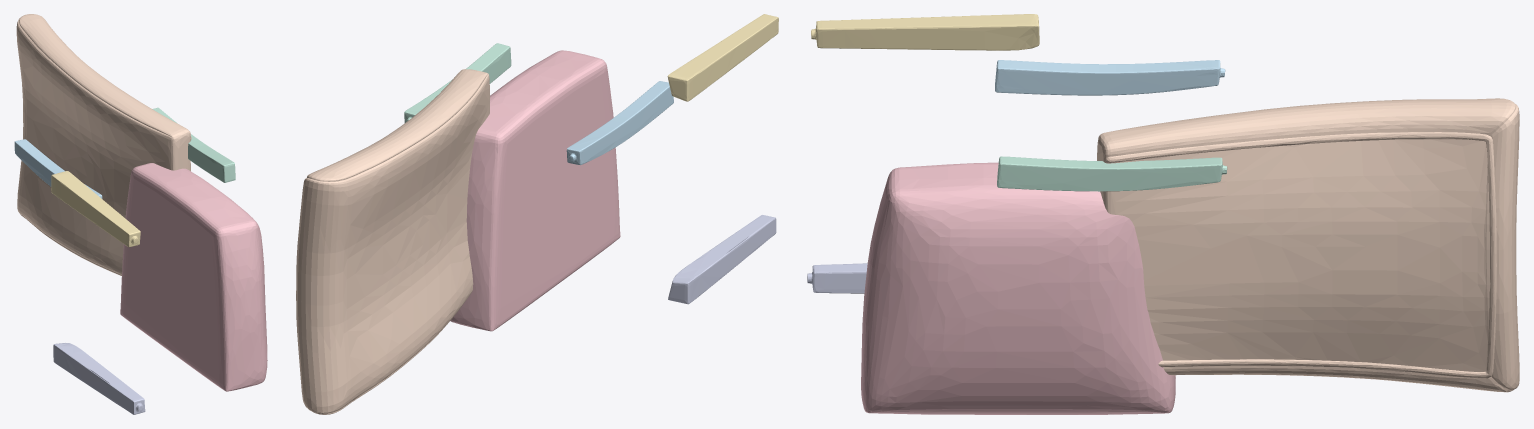
Rendered from view_input_colored.glb.
3 renders of one model, left to right at view 1: azimuth 30°, elevation 25°; view 2: azimuth 150°, elevation 25°; view 3: azimuth 270°, elevation 25°, orthographic. The views are drawn at different scales.
Parts seen in each view (by area): view 1: world; view 2: world; view 3: world.
Boxes of the visible parts, box(x1,y1,x2,y2) form: world: box(14, 14, 267, 414); world: box(296, 14, 778, 414); world: box(807, 14, 1519, 414).
Bounding box in the file's own units: 0.4307 × 0.504 × 1.06.
